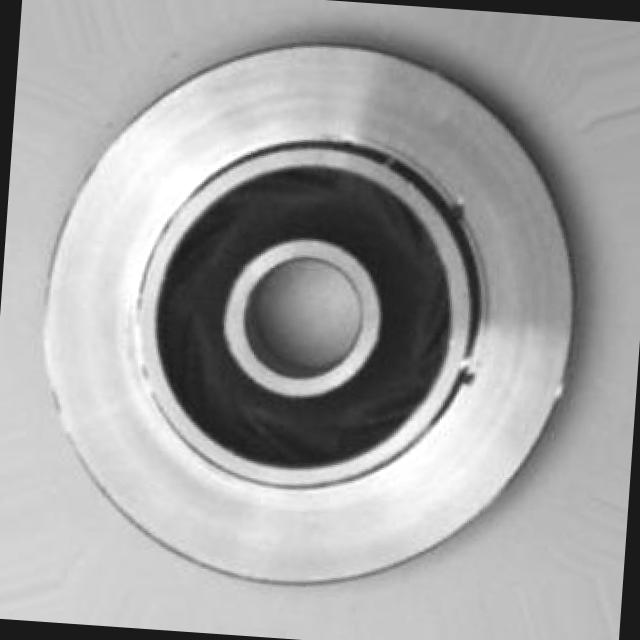Defect: (458, 364, 480, 386)
